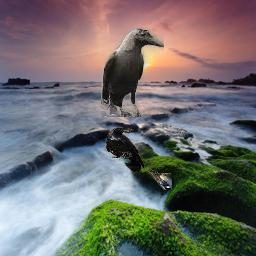Crow: (102, 27, 165, 117), (106, 128, 145, 173)
Swallow: (146, 168, 172, 191)
